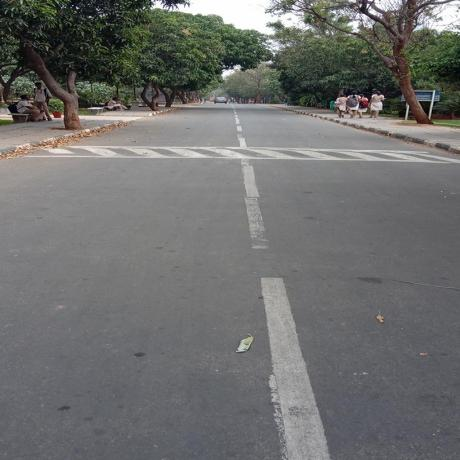Speed Bump: (5, 144, 458, 162)
